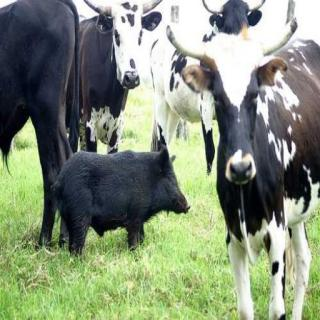Pig: (41, 124, 199, 270)
